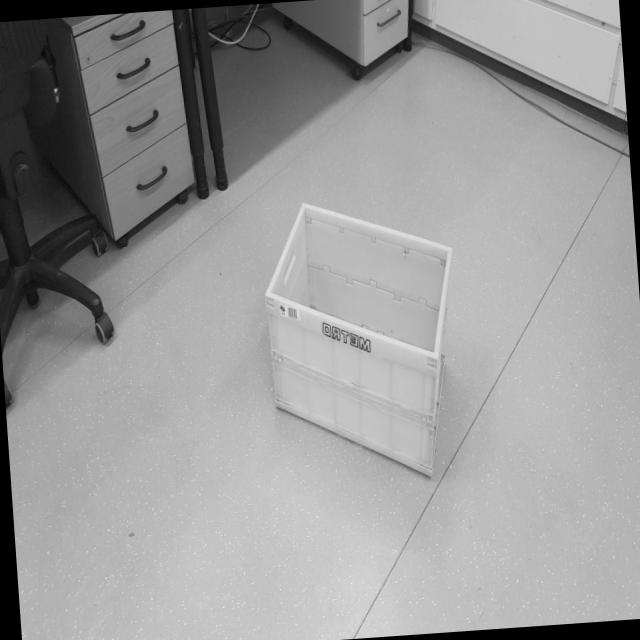box: (247, 171, 492, 502)
